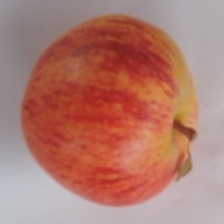apple: (26, 17, 214, 206)
